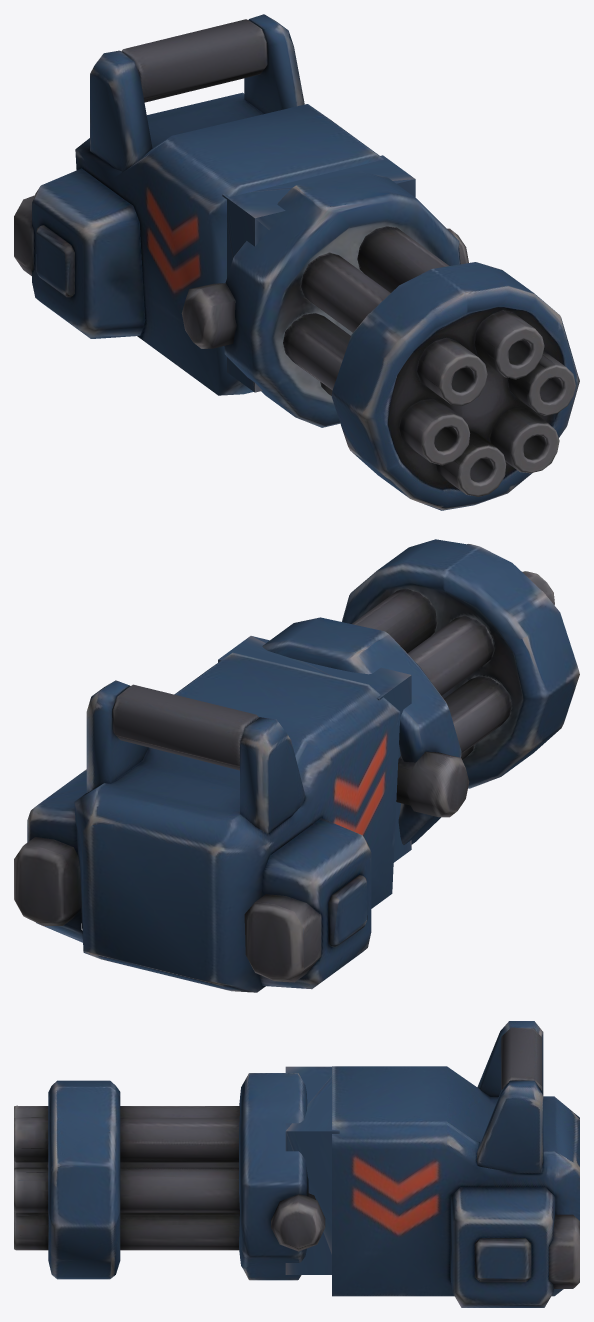
The model's file is jeep-minigun-head.glb.
3 renders of one model, top to bottom at view 1: azimuth 30°, elevation 25°; view 2: azimuth 150°, elevation 25°; view 3: azimuth 270°, elevation 25°, orthographic. The views are drawn at different scales.
Parts seen in each view (by area): view 1: tripo_node_ad75a003-404a-431c-8f57-397091457814; view 2: tripo_node_ad75a003-404a-431c-8f57-397091457814; view 3: tripo_node_ad75a003-404a-431c-8f57-397091457814.
Part boxes in pixels (x1,y1,x2,y2): tripo_node_ad75a003-404a-431c-8f57-397091457814: (14,14,579,510); tripo_node_ad75a003-404a-431c-8f57-397091457814: (14,539,579,992); tripo_node_ad75a003-404a-431c-8f57-397091457814: (14,1021,579,1307).
Bounding box in the file's own units: 0.4375 × 0.3576 × 0.85.
Materials: 1 (1 with a texture image).
